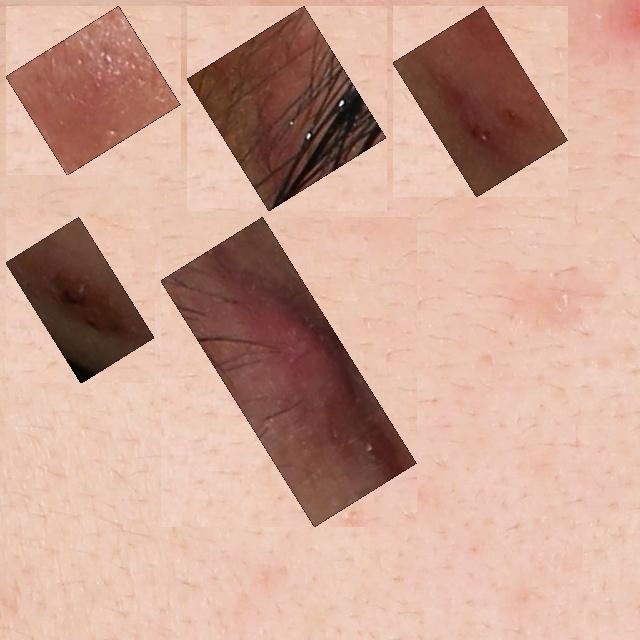nodule: (172, 225, 411, 516), (198, 17, 375, 200), (404, 17, 556, 186), (17, 17, 169, 164), (17, 228, 143, 372)
